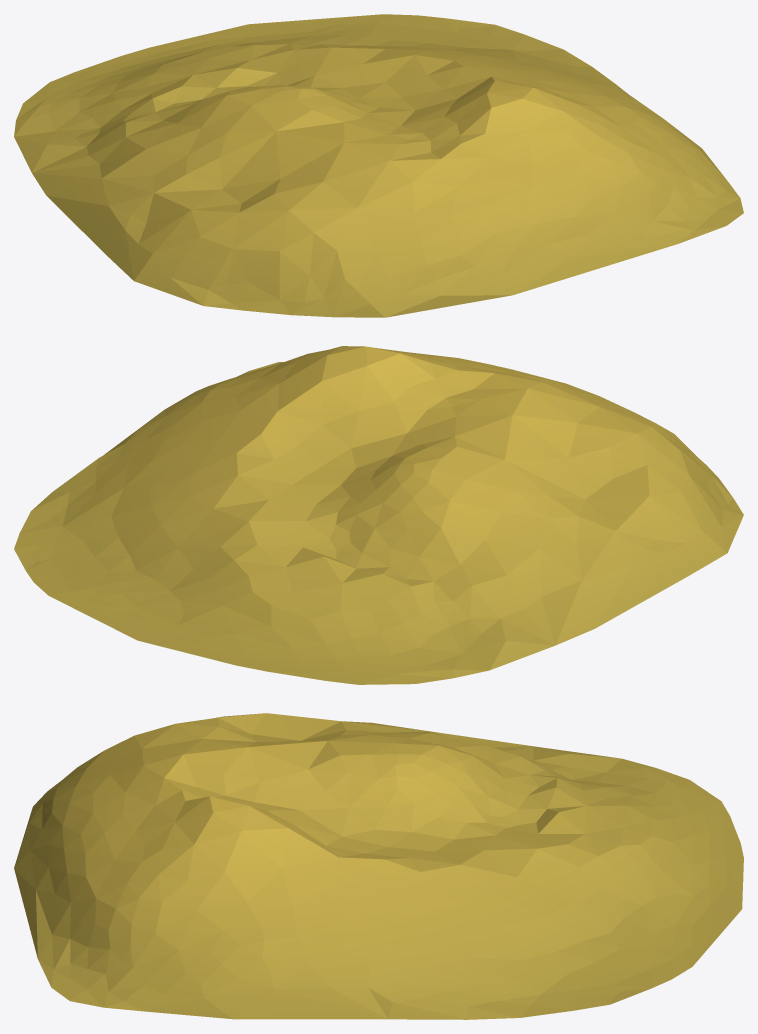
File: Hill_08.glb
3 renders of one model, top to bottom at view 1: azimuth 30°, elevation 25°; view 2: azimuth 150°, elevation 25°; view 3: azimuth 270°, elevation 25°, orthographic. The views are drawn at different scales.
Parts seen in each view (by area): view 1: Hill_08; view 2: Hill_08; view 3: Hill_08.
Part boxes in pixels (x1,y1,x2,y2): Hill_08: (14, 14, 743, 317); Hill_08: (14, 346, 743, 684); Hill_08: (14, 713, 743, 1019).
Bounding box in the file's own units: 57.68 × 10.09 × 61.13.
Materials: 1 (1 with a texture image).
